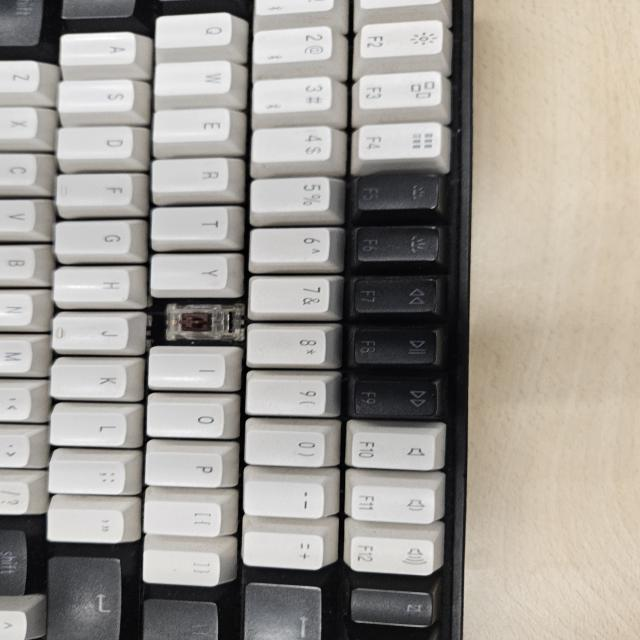C: (159, 298, 227, 344)
